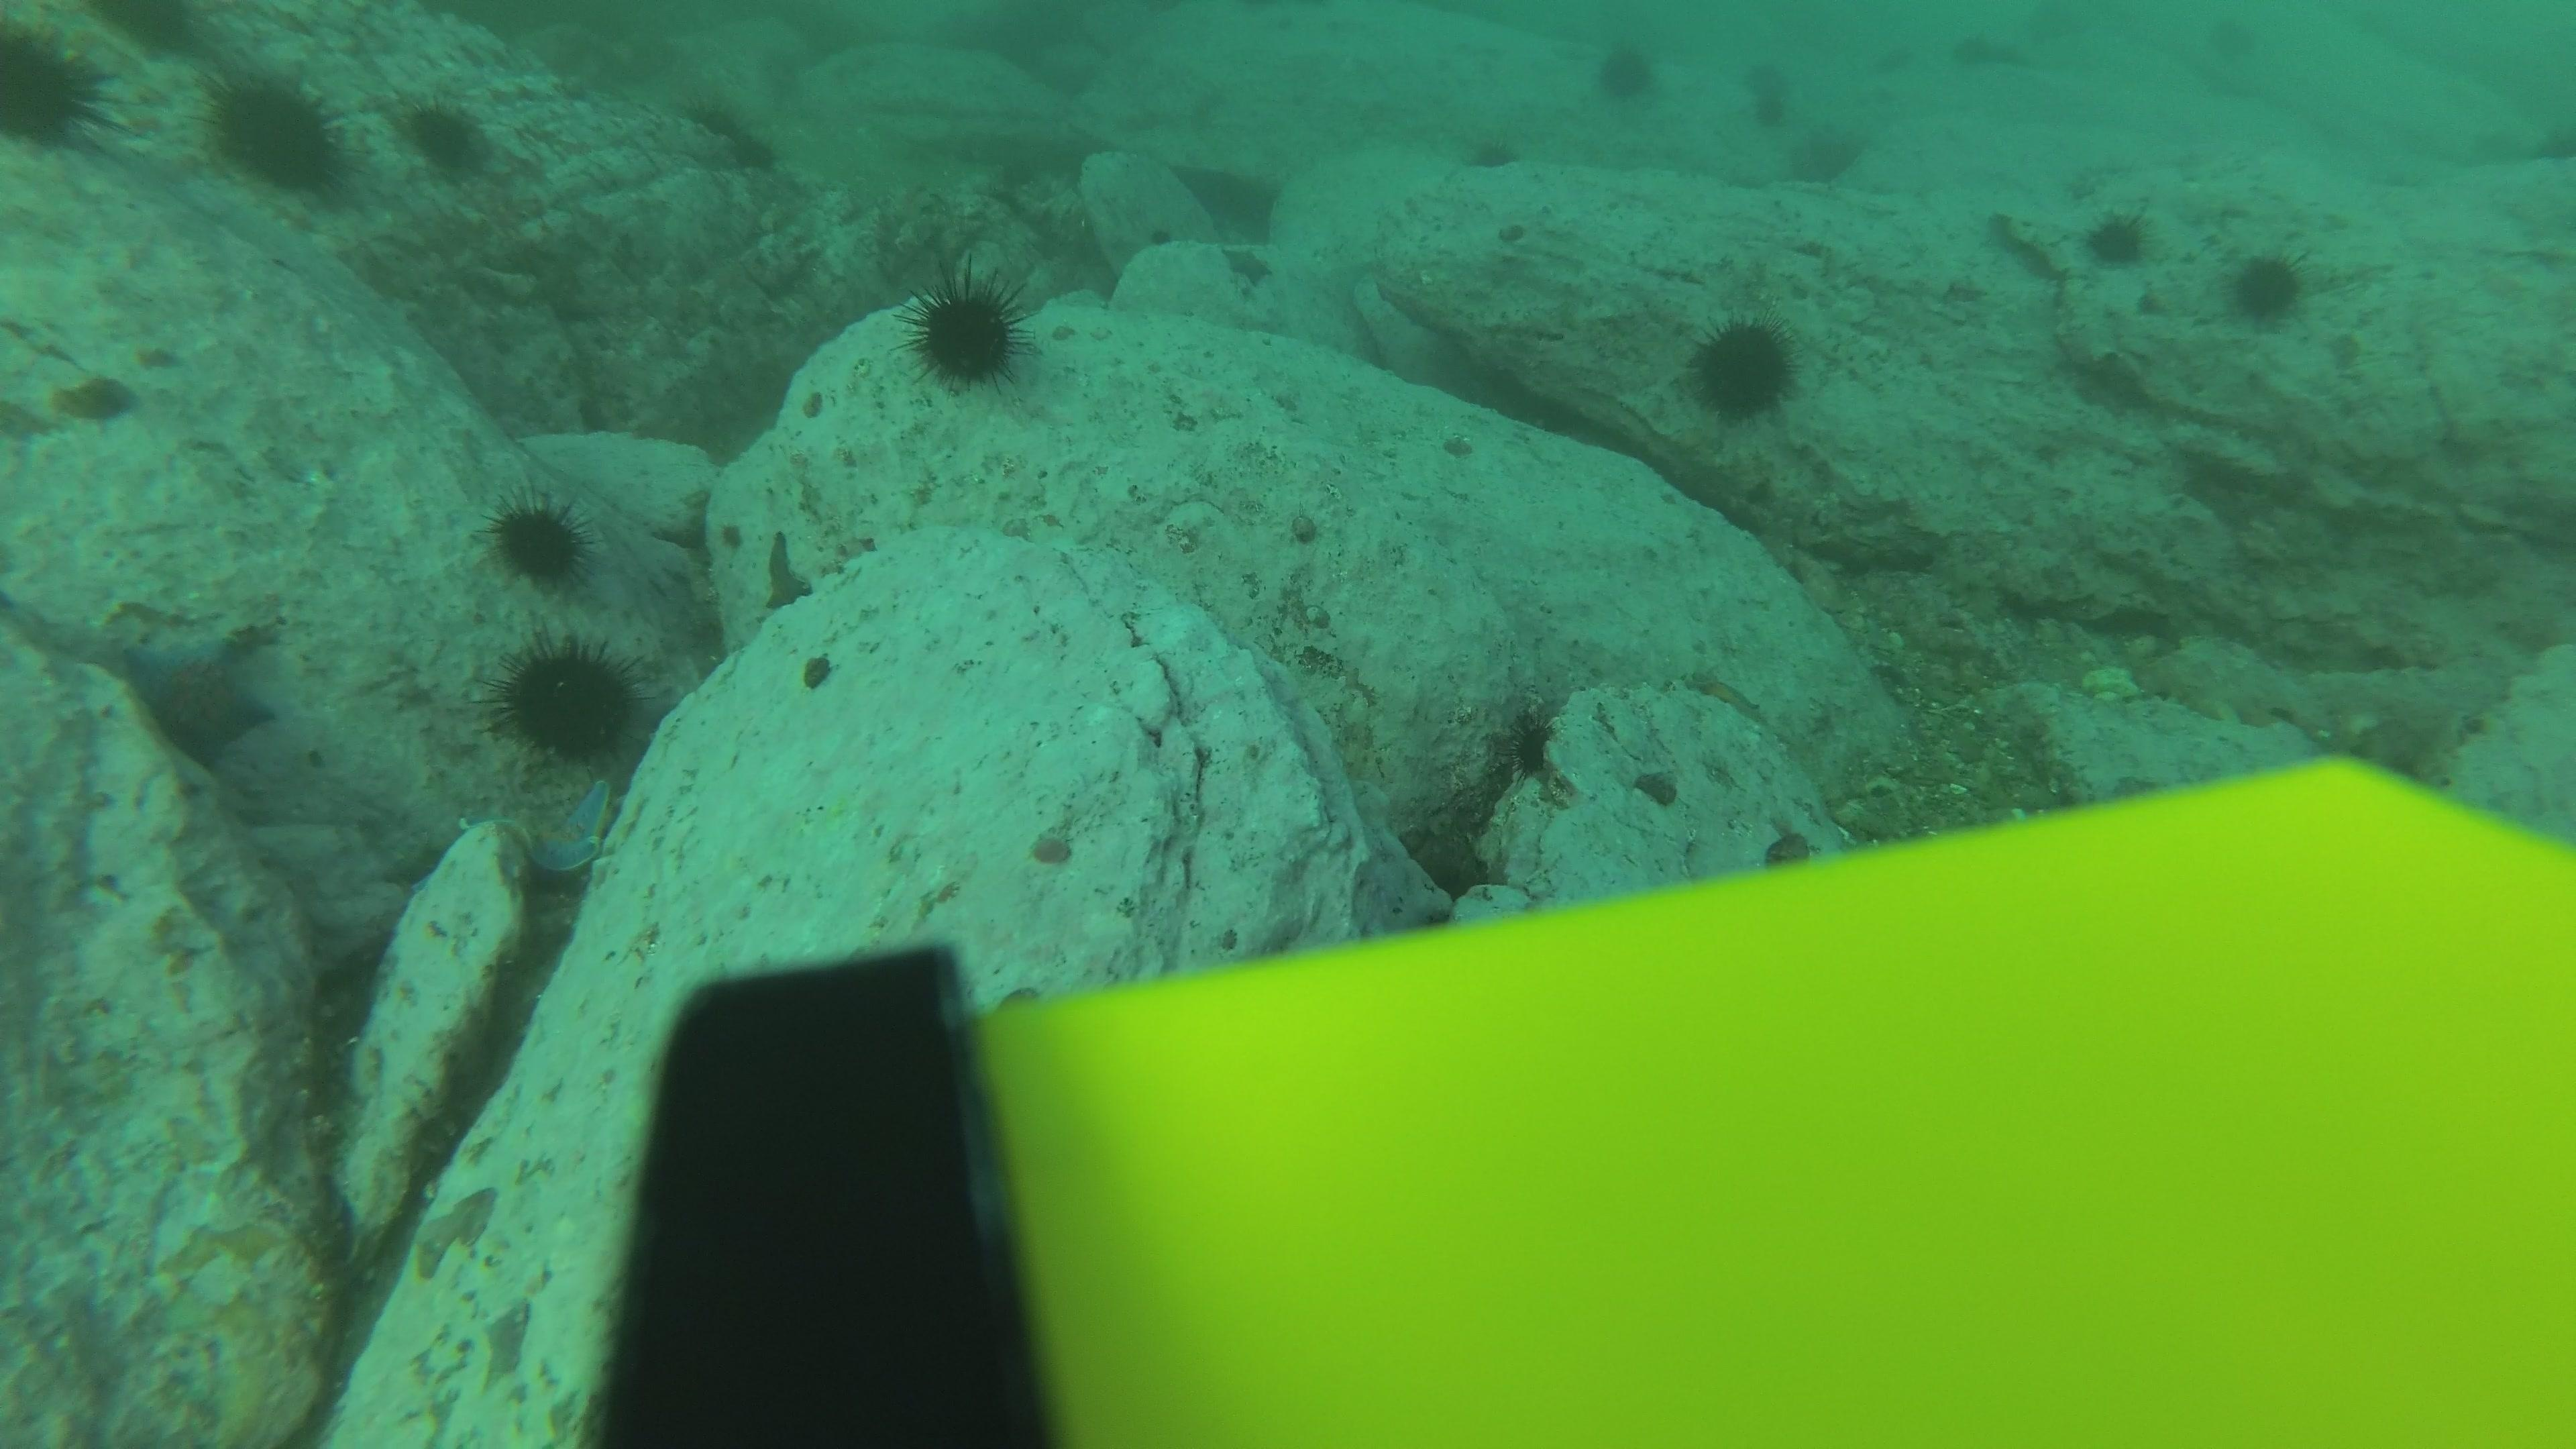echinus: (492, 633, 644, 766), (200, 65, 352, 198), (0, 16, 111, 156), (904, 271, 1031, 393), (1683, 313, 1801, 425), (485, 492, 594, 591), (396, 92, 494, 179), (88, 0, 214, 60), (2224, 246, 2311, 327), (1785, 120, 1865, 189), (1591, 37, 1661, 106), (2082, 205, 2153, 271), (2210, 2, 2281, 67), (2028, 0, 2098, 65), (681, 92, 757, 140), (1463, 131, 1534, 179), (731, 127, 780, 175), (1948, 28, 1997, 67), (1741, 92, 1789, 131), (1982, 35, 2031, 73), (1741, 58, 1790, 96), (980, 184, 1023, 218), (1001, 157, 1044, 191), (1269, 11, 1297, 39), (1143, 225, 1171, 251), (1318, 11, 1346, 37)
starfish: (117, 617, 285, 770), (522, 773, 625, 881), (1219, 241, 1276, 292)
